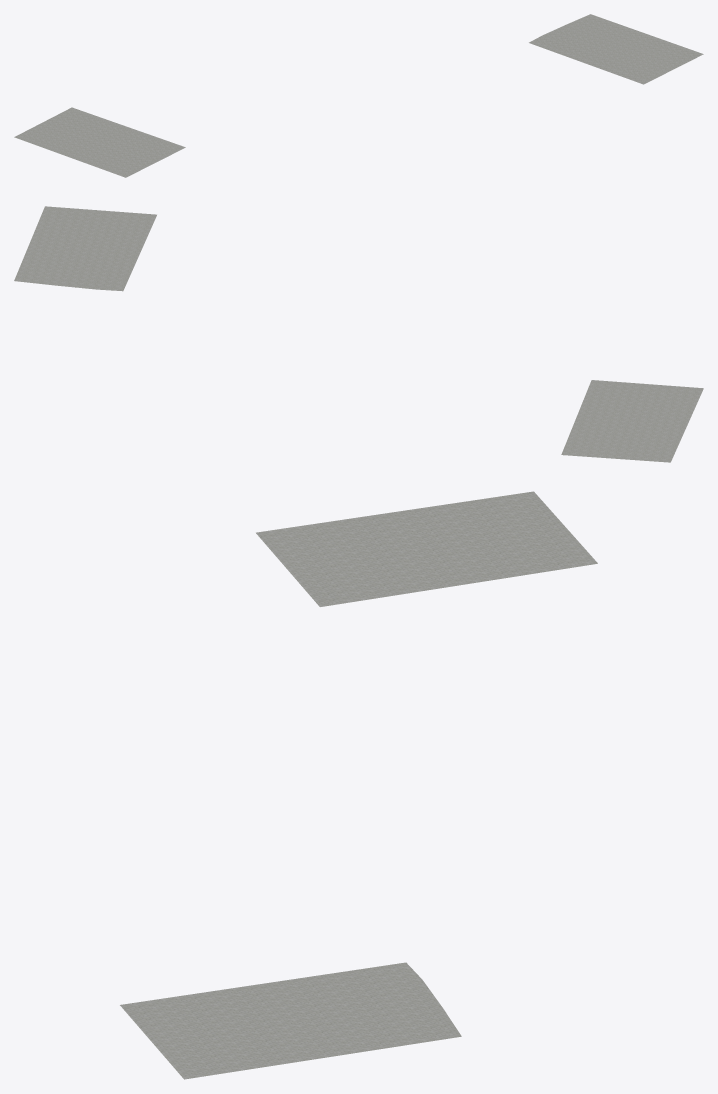
File: street_stone_A.FBX
3 views of the same model, one above another, from view 1: azimuth 30°, elevation 25°; view 2: azimuth 150°, elevation 25°; view 3: azimuth 270°, elevation 25° (orthographic). The views are drawn at different scales.
Parts seen in each view (by area): view 1: street_stone_A; view 2: street_stone_A; view 3: street_stone_A.
Boxes of the visible parts, x1,y1,x2,y2 form: street_stone_A: [14, 14, 703, 177]; street_stone_A: [14, 206, 703, 462]; street_stone_A: [120, 491, 597, 1079].
Size of the model in its own units: 9268 by 1.95e-13 by 3188.
1 material, 1 textured.
